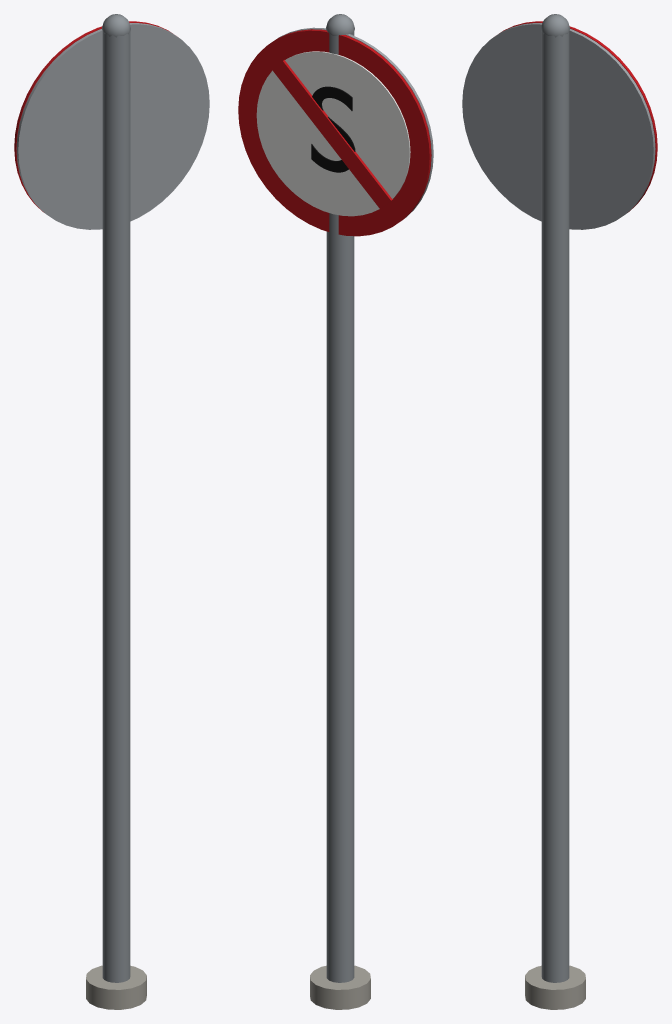
File: Sign_NoStopping.fbx
3 renders of one model, left to right at view 1: azimuth 30°, elevation 25°; view 2: azimuth 150°, elevation 25°; view 3: azimuth 330°, elevation 25°, orthographic.
Visible parts, largest first — view 1: Sign_NoStopping_Mesh; view 2: Sign_NoStopping_Mesh; view 3: Sign_NoStopping_Mesh.
Boxes of the visible parts, box(x1,y1,x2,y2) form: Sign_NoStopping_Mesh: box(14, 14, 209, 1009); Sign_NoStopping_Mesh: box(238, 14, 433, 1009); Sign_NoStopping_Mesh: box(462, 14, 657, 1009).
Size of the model in its own units: 0.6 by 2.94 by 0.1672.
